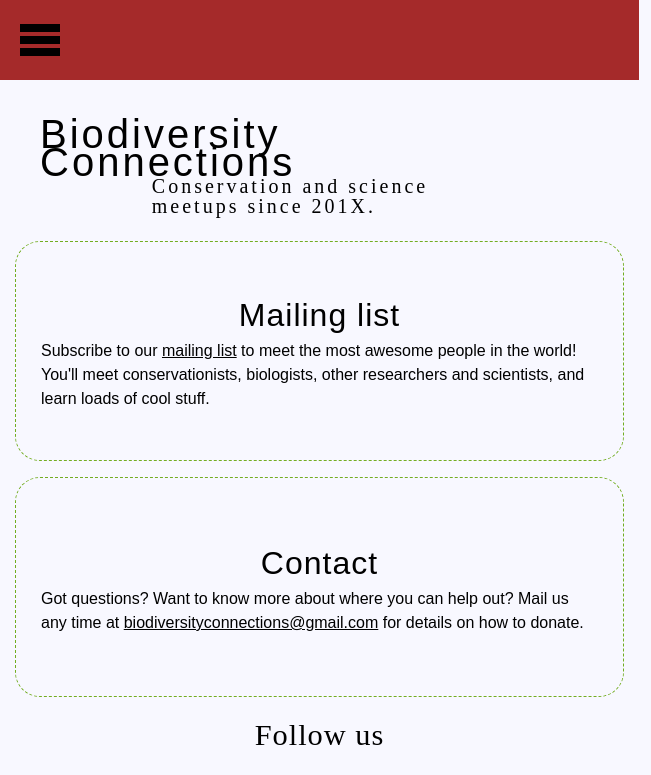
hamburger menu › mobile menu should show navigation links when opened
Step 1. Click the button named "Click to open menu" → (40, 40), box x1=20 y1=20 x2=639 y2=60
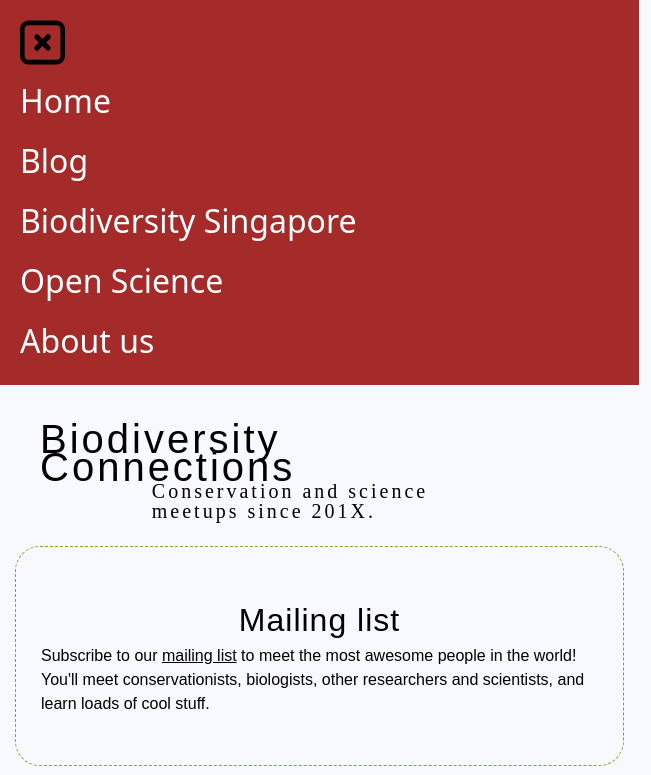
Check: the element showing "Home Blog Biodiversity Singapore Open Science About us" is shown, box x1=0 y1=0 x2=639 y2=385
Check: the link "Home" is shown, box x1=20 y1=79 x2=111 y2=122
